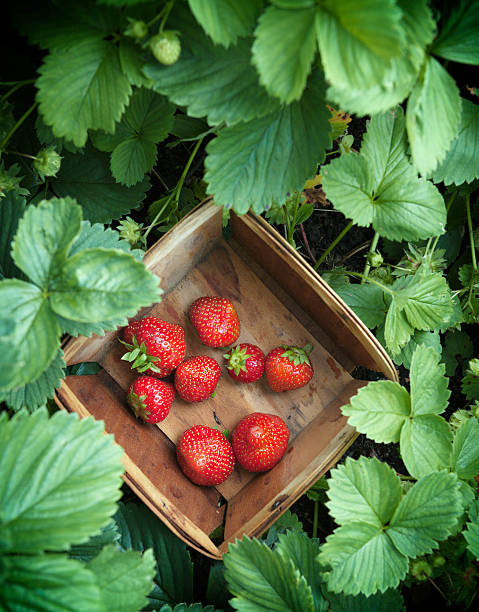Fresa: (173, 418, 239, 494), (234, 409, 293, 475), (186, 289, 244, 355), (122, 318, 190, 374), (170, 352, 225, 410), (125, 373, 179, 429), (266, 343, 315, 398), (221, 343, 270, 389)
